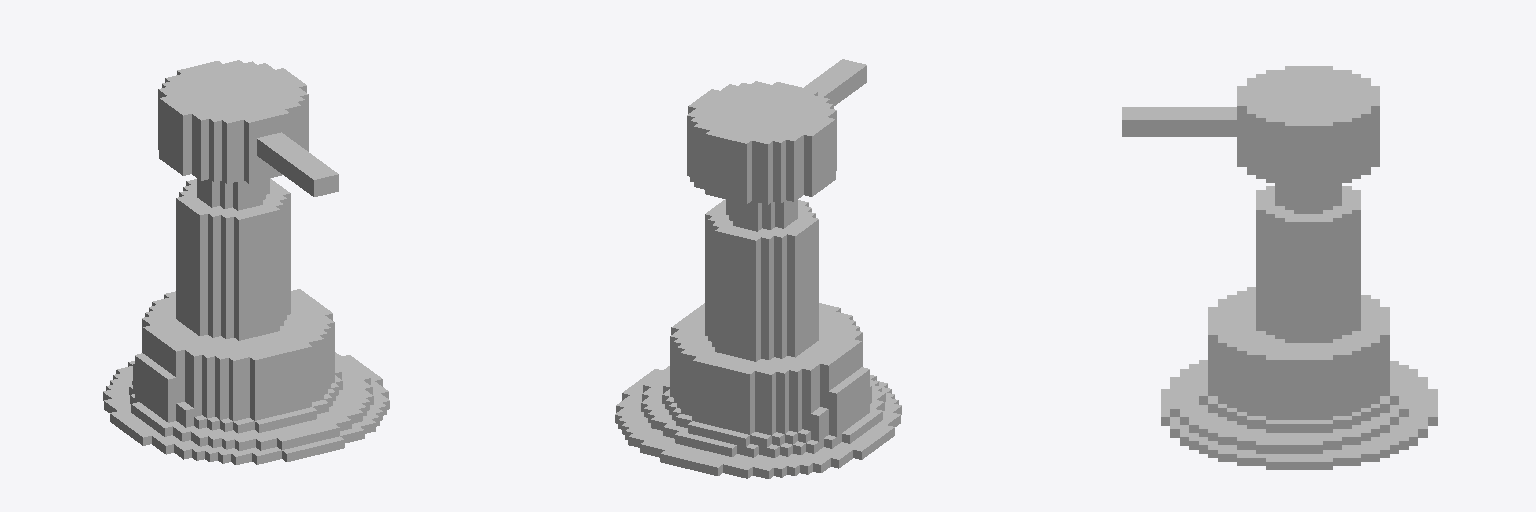
Rendered from tower.obj.
The picture shows the model from 3 angles: view 1: azimuth 30°, elevation 25°; view 2: azimuth 150°, elevation 25°; view 3: azimuth 270°, elevation 25°; orthographic projection.
Parts seen in each view (by area): view 1: object 1; view 2: object 1; view 3: object 1.
Boxes of the visible parts, <box> form: object 1: <box>103,60,389,464</box>; object 1: <box>615,59,901,478</box>; object 1: <box>1122,66,1437,469</box>.
Size of the model in its own units: 2.9 by 3.6 by 3.3.